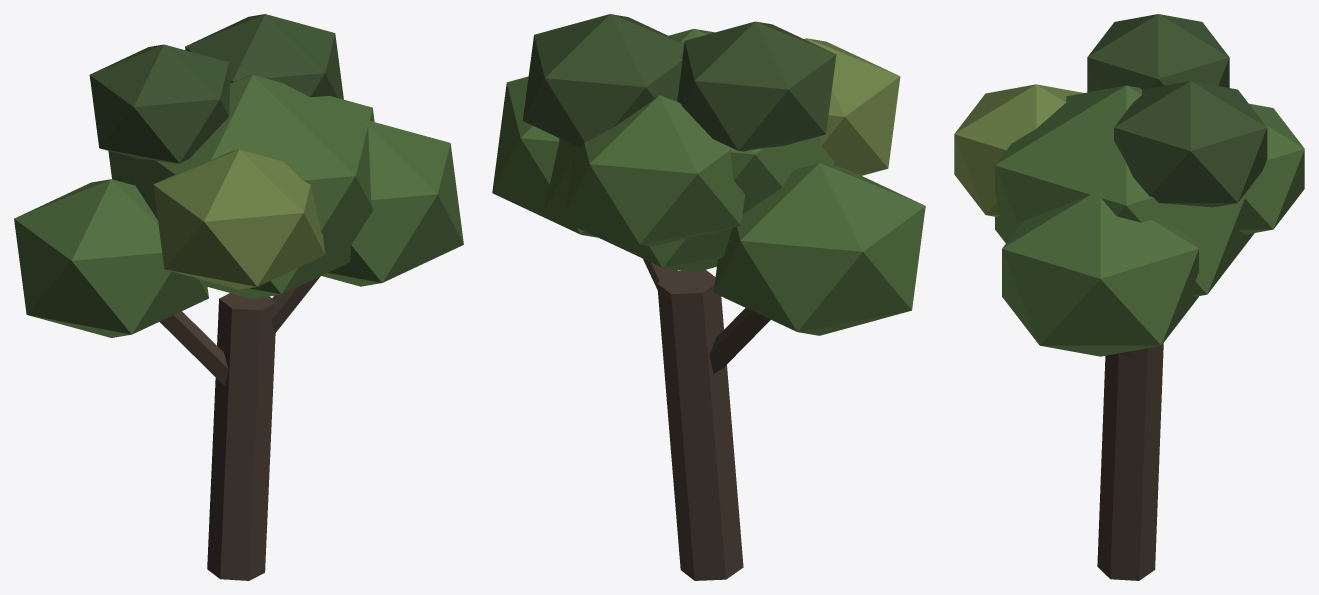
File: forest_oak.glb
3 views of the same model, side by side, from view 1: azimuth 30°, elevation 25°; view 2: azimuth 150°, elevation 25°; view 3: azimuth 270°, elevation 25° (orthographic). The views are drawn at different scales.
Visible parts, largest first — view 1: oak leaves.001, oak leaves, oak leaves.004, oak trunk, oak leaves.002, oak leaves.006, oak leaves.005, oak bough, oak bough.001; view 2: oak leaves.001, oak trunk, oak leaves.003, oak leaves.006, oak leaves.005, oak leaves, oak leaves.004, oak leaves.002, oak bough; view 3: oak leaves.002, oak leaves, oak leaves.005, oak trunk, oak leaves.006, oak leaves.004, oak leaves.003.
Part boxes in pixels (x1,y1,x2,y2): oak leaves.001: [14, 179, 208, 337]; oak leaves: [118, 75, 374, 298]; oak leaves.004: [153, 149, 325, 289]; oak trunk: [207, 293, 276, 580]; oak leaves.002: [321, 118, 463, 286]; oak leaves.006: [89, 44, 231, 163]; oak leaves.005: [185, 14, 343, 99]; oak bough: [159, 311, 228, 385]; oak bough.001: [270, 276, 320, 333]; oak leaves.001: [713, 163, 925, 335]; oak trunk: [657, 270, 743, 580]; oak leaves.003: [566, 95, 744, 246]; oak leaves.006: [677, 21, 836, 151]; oak leaves.005: [523, 14, 684, 147]; oak leaves: [544, 29, 834, 272]; oak leaves.004: [804, 38, 900, 175]; oak leaves.002: [492, 76, 597, 237]; oak bough: [709, 308, 770, 373]; oak leaves.002: [1002, 189, 1198, 356]; oak leaves: [995, 85, 1254, 296]; oak leaves.005: [1114, 81, 1267, 207]; oak trunk: [1097, 343, 1163, 580]; oak leaves.006: [1087, 14, 1229, 92]; oak leaves.004: [954, 84, 1083, 217]; oak leaves.003: [1238, 103, 1304, 234].
Bounding box in the file's own units: 1.43 × 1.81 × 1.09.
